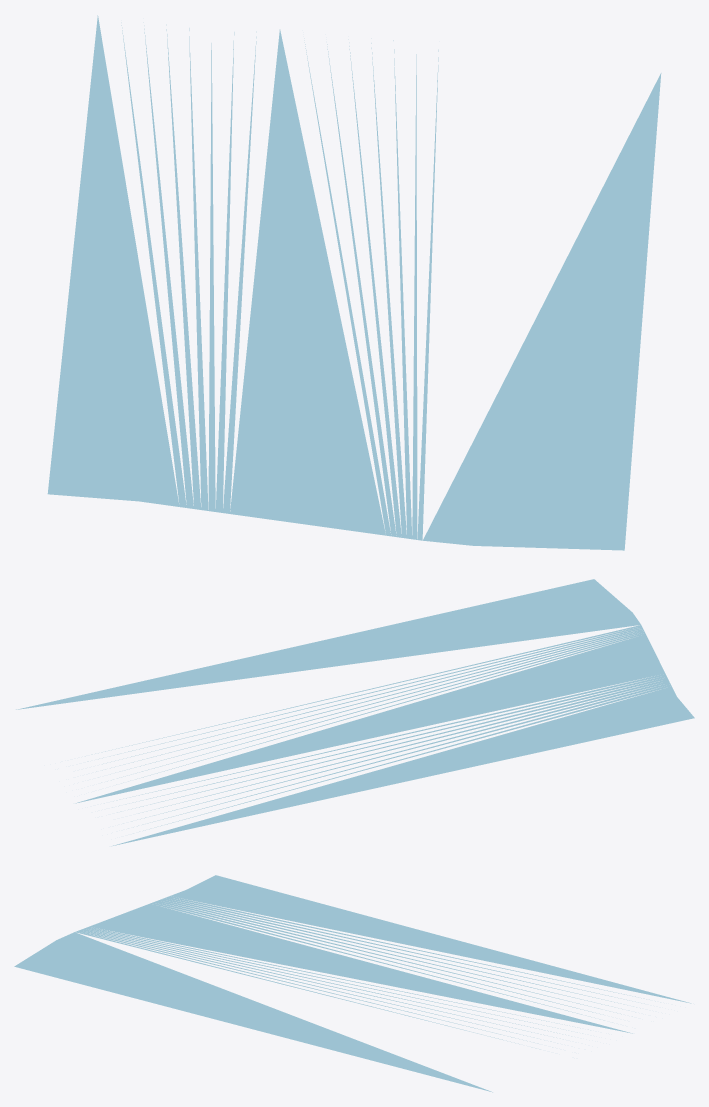
File: terrain-context-C-x0-z1.glb
3 renders of one model, top to bottom at view 1: azimuth 30°, elevation 25°; view 2: azimuth 150°, elevation 25°; view 3: azimuth 270°, elevation 25°, orthographic. The views are drawn at different scales.
Parts seen in each view (by area): view 1: C-x0-z1; view 2: C-x0-z1; view 3: C-x0-z1.
Part boxes in pixels (x1,y1,x2,y2): C-x0-z1: (47,15,661,550); C-x0-z1: (16,579,694,846); C-x0-z1: (14,875,691,1092).
Bounding box in the file's own units: 223 × 3.96e-05 × 295.
